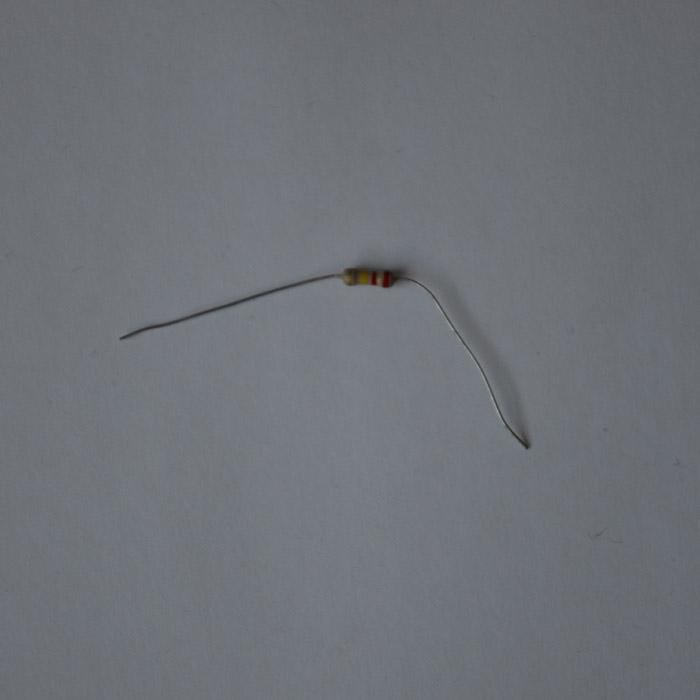resistor: (342, 267, 392, 287)
